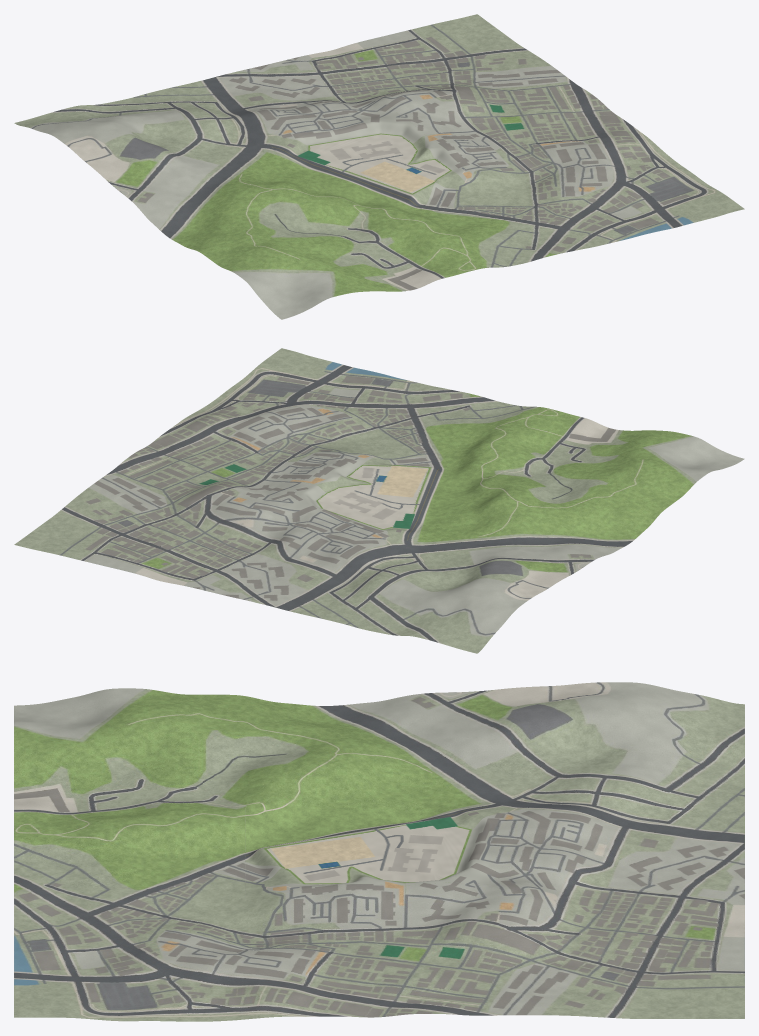
The picture shows the model from 3 angles, top to bottom: view 1: azimuth 30°, elevation 25°; view 2: azimuth 150°, elevation 25°; view 3: azimuth 270°, elevation 25°; orthographic projection. The views are drawn at different scales.
Parts seen in each view (by area): view 1: ground-area, ground-school; view 2: ground-area, ground-school; view 3: ground-area, ground-school.
Part boxes in pixels (bbox=[...]): ground-area: bbox=[14, 14, 744, 319]; ground-school: bbox=[271, 112, 484, 211]; ground-area: bbox=[14, 348, 744, 653]; ground-school: bbox=[283, 451, 495, 540]; ground-area: bbox=[14, 682, 744, 1021]; ground-school: bbox=[245, 803, 489, 898].
Size of the model in its own units: 1088 by 59.74 by 1088.
2 materials, 2 textured.
